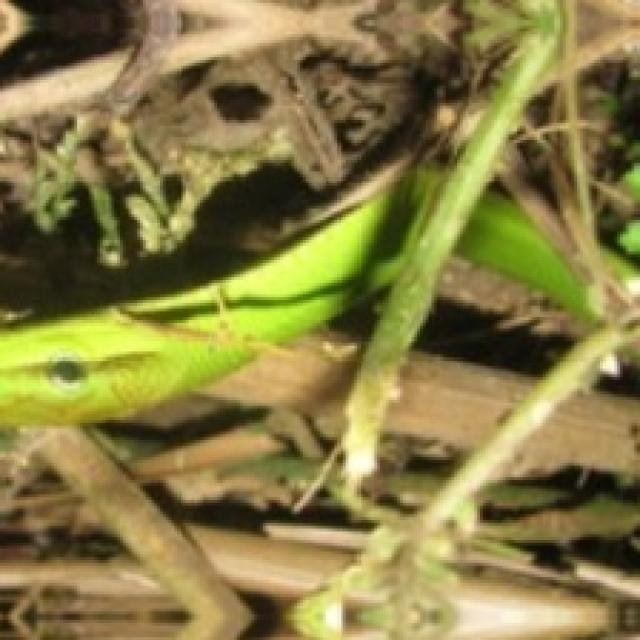red-tailed green ratsnake: (0, 168, 441, 424), (461, 195, 589, 314)
